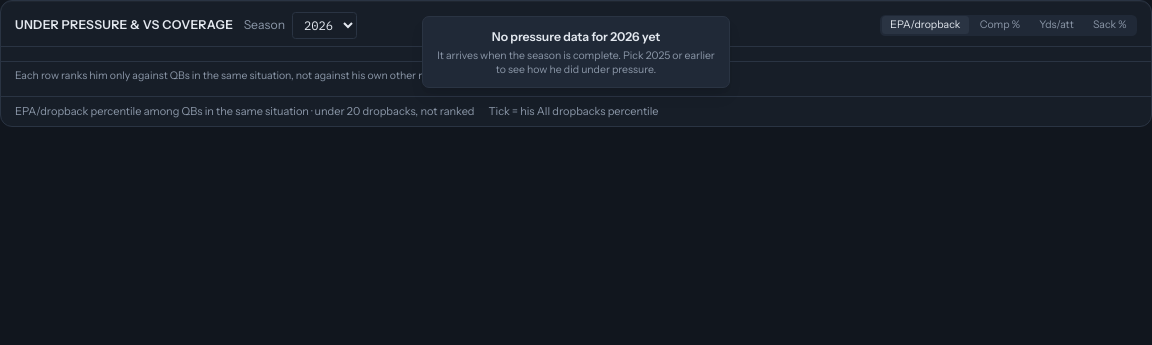
Scenario: PressureCard › opens on the current season greyed out with a note until its data exists; an earlier season shows the chart
The width and height of the screenshot is (1152, 345).
Expected: the element with test id "chart-empty" shows "No pressure data for 2026 yet", 492,29 -> 660,44
Select "2025" in the dropdown at point(324, 25), box 292,12 -> 357,38
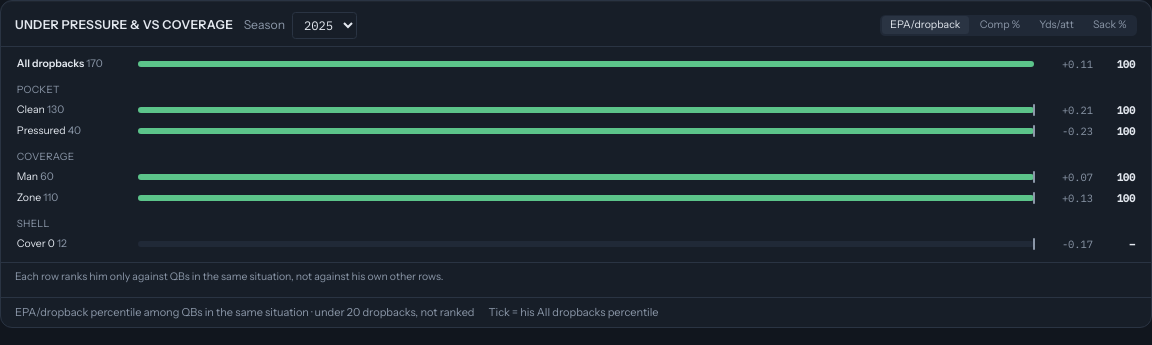
Expected: the element with test id "chart-empty" is gone
Expected: the list item "All dropbacks 170 +0.11 100" is shown, 12,54 -> 1140,74
